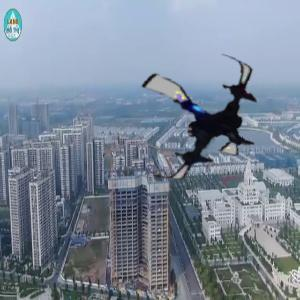drone: (123, 44, 271, 192)
